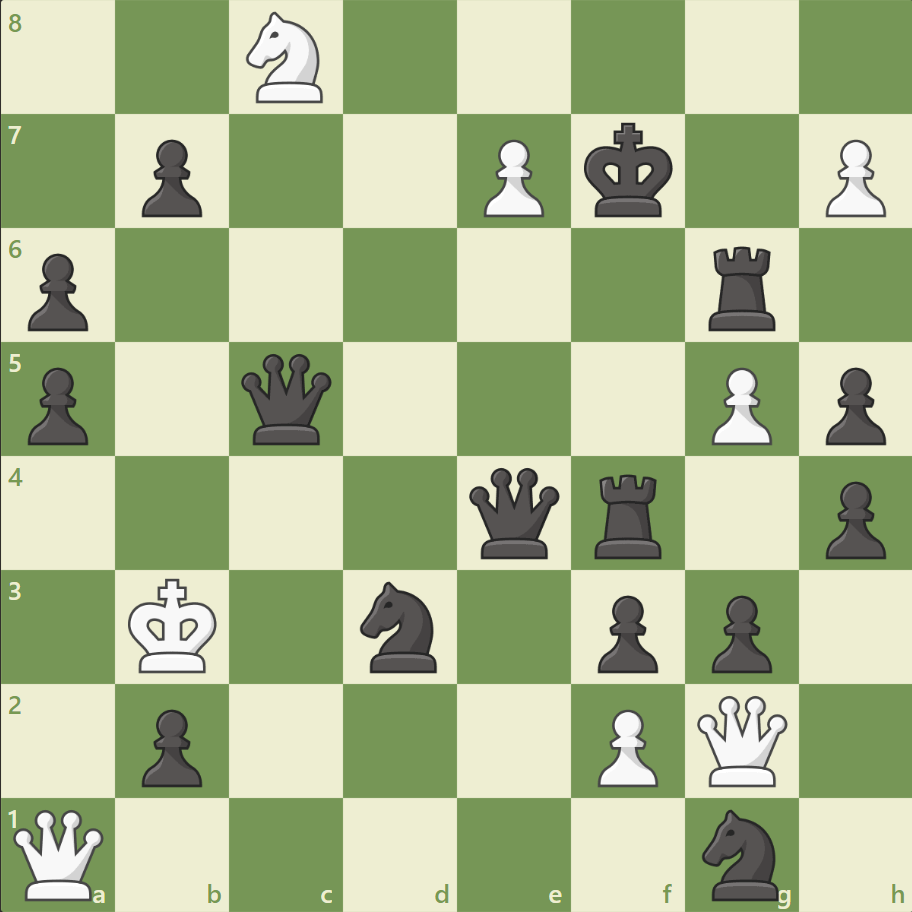K: (124, 571, 224, 679)
N: (238, 7, 335, 110)
P: (474, 132, 549, 223), (701, 359, 776, 450), (815, 132, 889, 223), (588, 700, 662, 791)
Q: (691, 690, 790, 789), (10, 804, 109, 903)
k: (579, 117, 679, 225)
n: (351, 575, 449, 677), (692, 802, 789, 904)
p: (133, 132, 208, 223), (20, 246, 95, 337), (20, 359, 95, 450), (701, 586, 776, 677), (133, 700, 208, 791), (815, 359, 889, 450), (815, 473, 889, 564), (588, 586, 662, 677)
q: (237, 349, 336, 449), (464, 463, 563, 562)
r: (700, 239, 783, 336), (587, 466, 670, 563)
